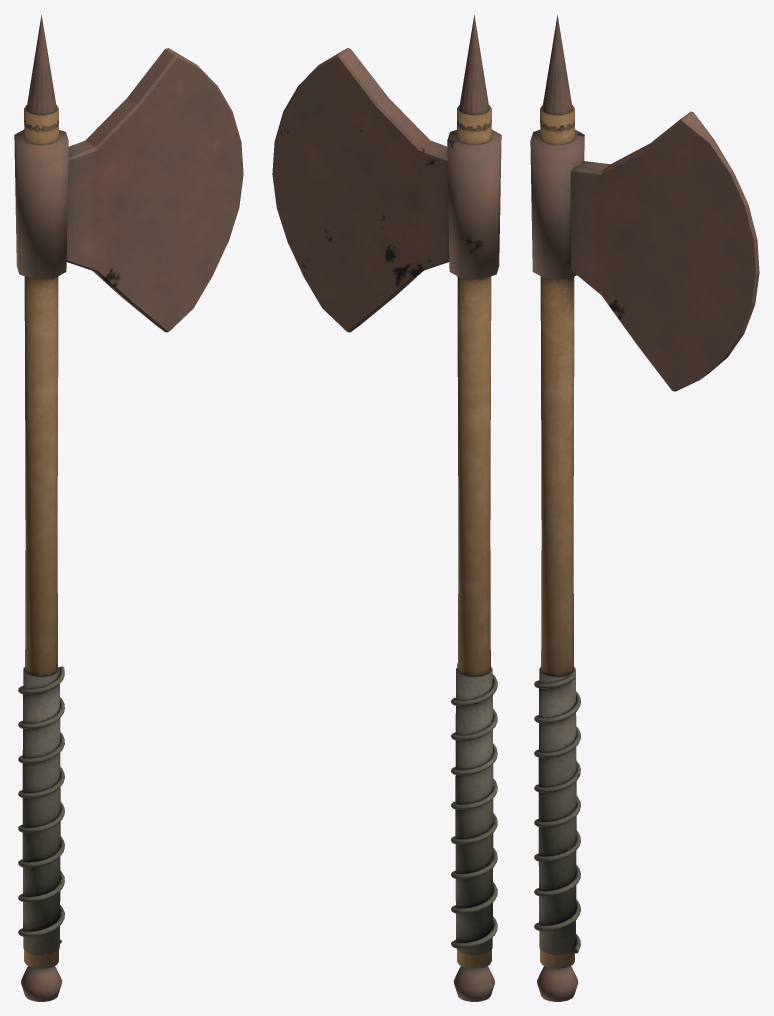
File: arma_machado_guerra_enferrujada.glb
3 views of the same model, side by side, from view 1: azimuth 30°, elevation 25°; view 2: azimuth 150°, elevation 25°; view 3: azimuth 330°, elevation 25° (orthographic).
Parts seen in each view (by area): view 1: arma_machado_guerra_enferrujada; view 2: arma_machado_guerra_enferrujada; view 3: arma_machado_guerra_enferrujada.
Part boxes in pixels (left/top/right/bottom): arma_machado_guerra_enferrujada: left=14, top=15, right=243, bottom=1001; arma_machado_guerra_enferrujada: left=272, top=15, right=501, bottom=1001; arma_machado_guerra_enferrujada: left=530, top=15, right=759, bottom=1001.
Size of the model in its own units: 0.3251 by 1.35 by 0.07.
Materials: 1 (1 with a texture image).
